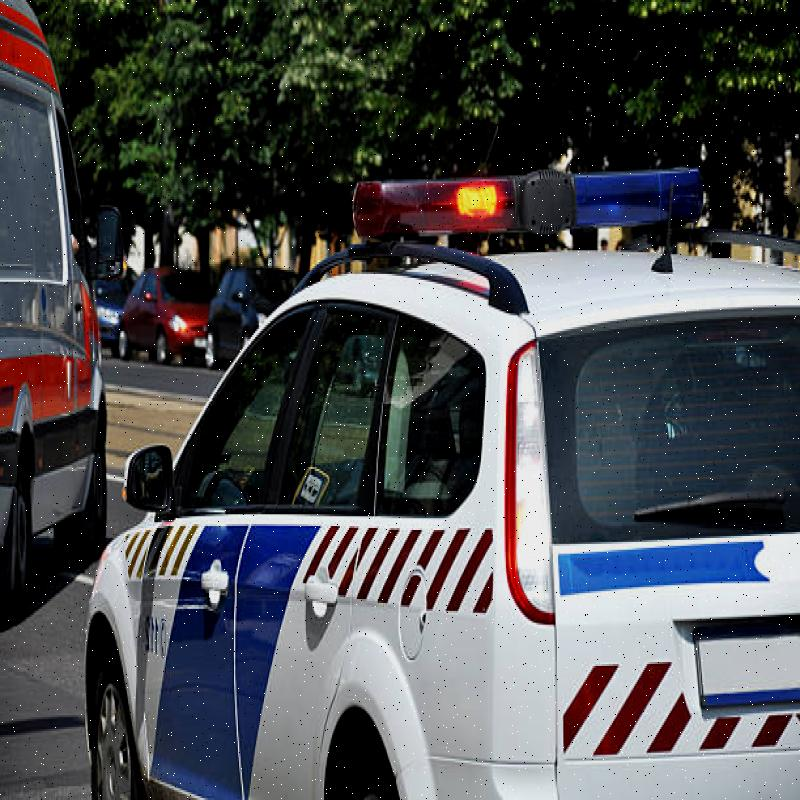AmbulanceSiren: (342, 140, 720, 245)
car: (47, 231, 800, 792)
